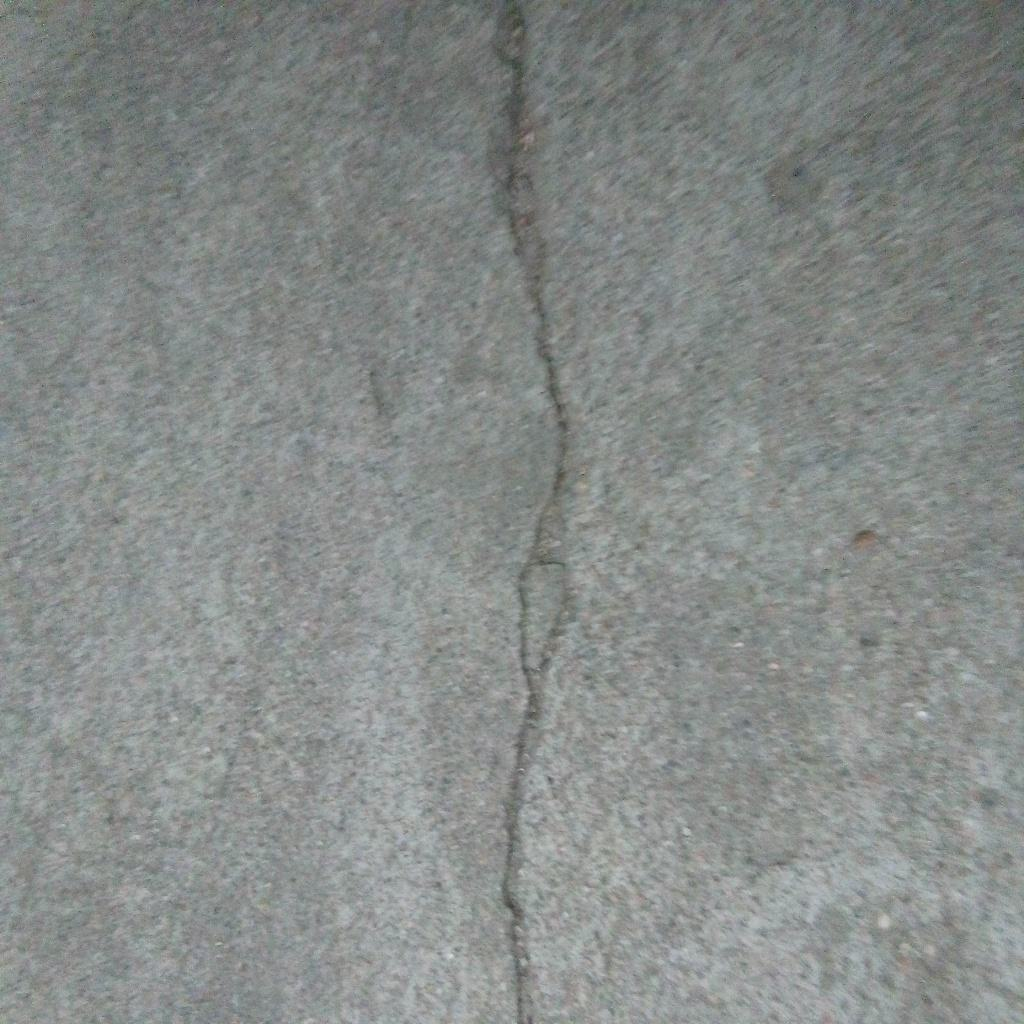Crack: (485, 1, 582, 1024)
